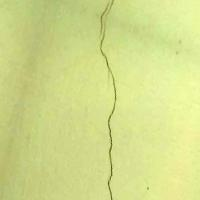crack: (74, 0, 142, 199)
